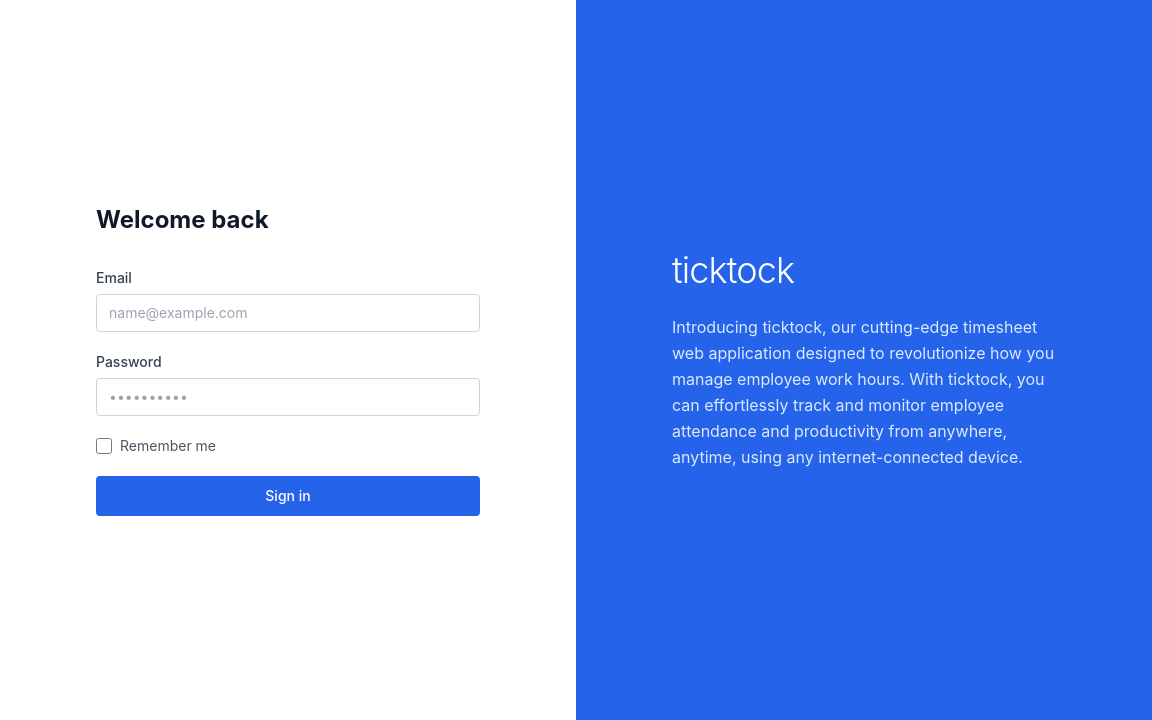
Test: LoginContainer › shows error message on failed login
The width and height of the screenshot is (1152, 720).
Type "wrong@example.com" into the field labelled "Email" at (288, 313), box [96,294,480,332]
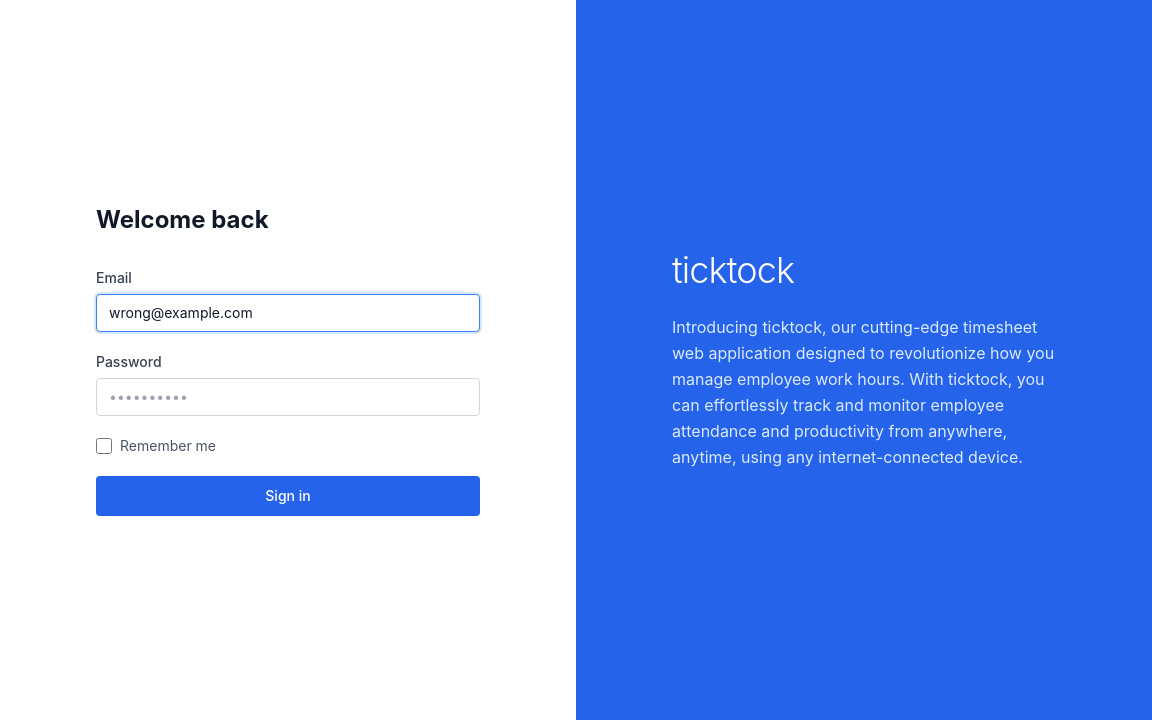
Type "wrongpassword" into the password field labelled "Password" at (288, 397), box [96,378,480,416]
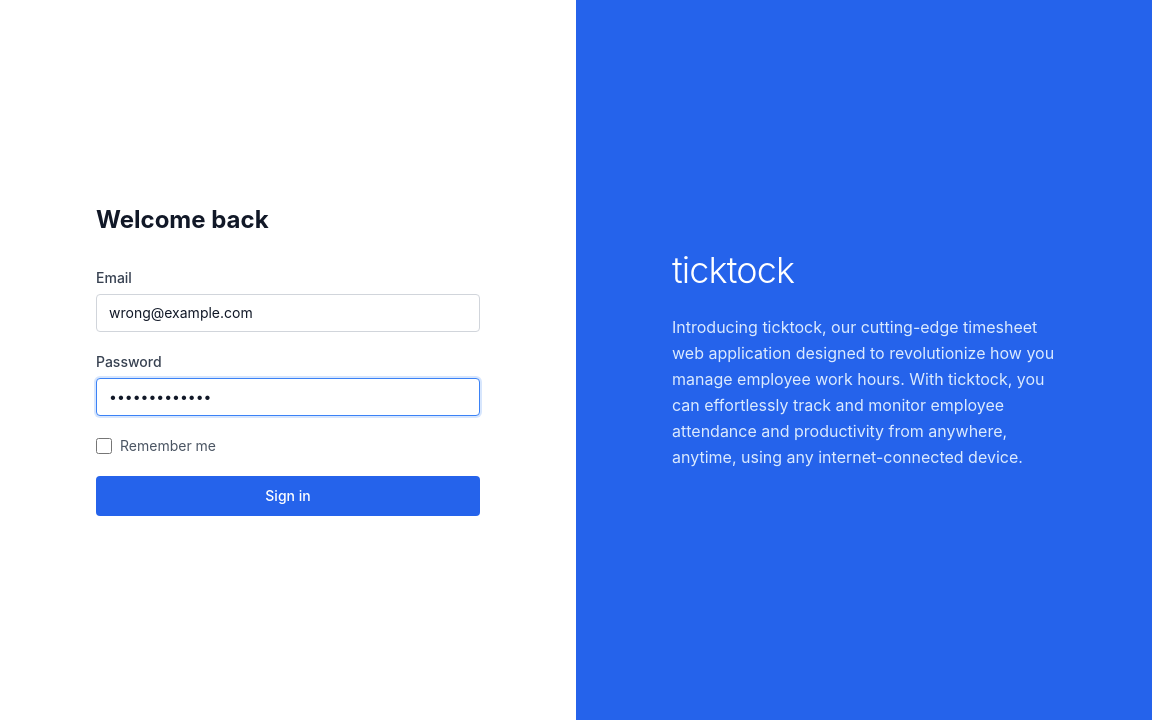
Click the button "Sign in" at (288, 496), box [96,476,480,516]
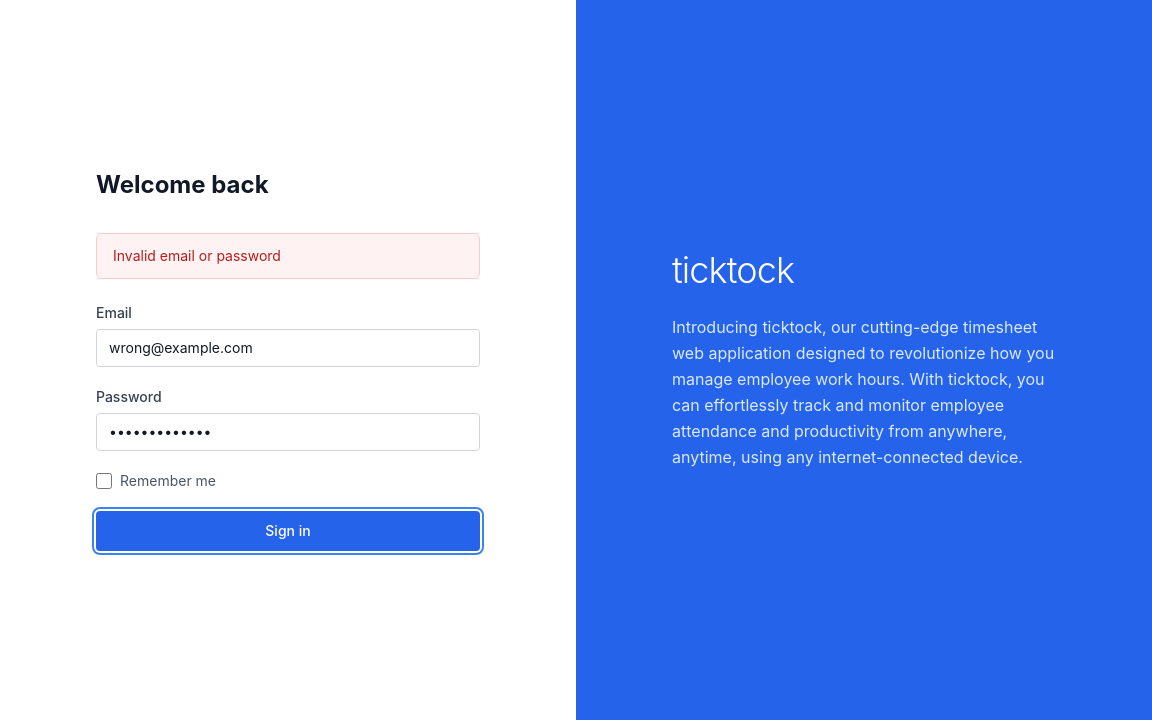
Result: the text "Invalid email or password" is shown at [96,233,480,279]
